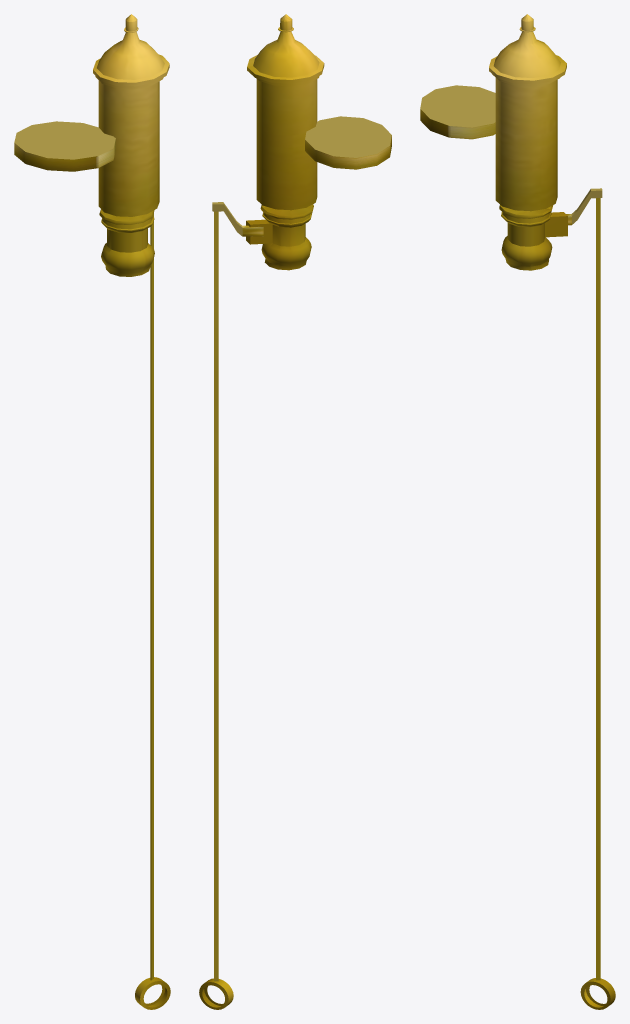
The model's file is whistle.dae.
The picture shows the model from 3 angles, left to right: view 1: azimuth 30°, elevation 25°; view 2: azimuth 150°, elevation 25°; view 3: azimuth 330°, elevation 25°; orthographic projection. The views are drawn at different scales.
Parts seen in each view (by area): view 1: whistle; view 2: whistle; view 3: whistle.
Part boxes in pixels (box(x1,y1,x2,y2)): whistle: box(14, 14, 170, 1009); whistle: box(199, 14, 391, 1009); whistle: box(420, 14, 615, 1009).
Bounding box in the file's own units: 2.25 × 13 × 1.2.
